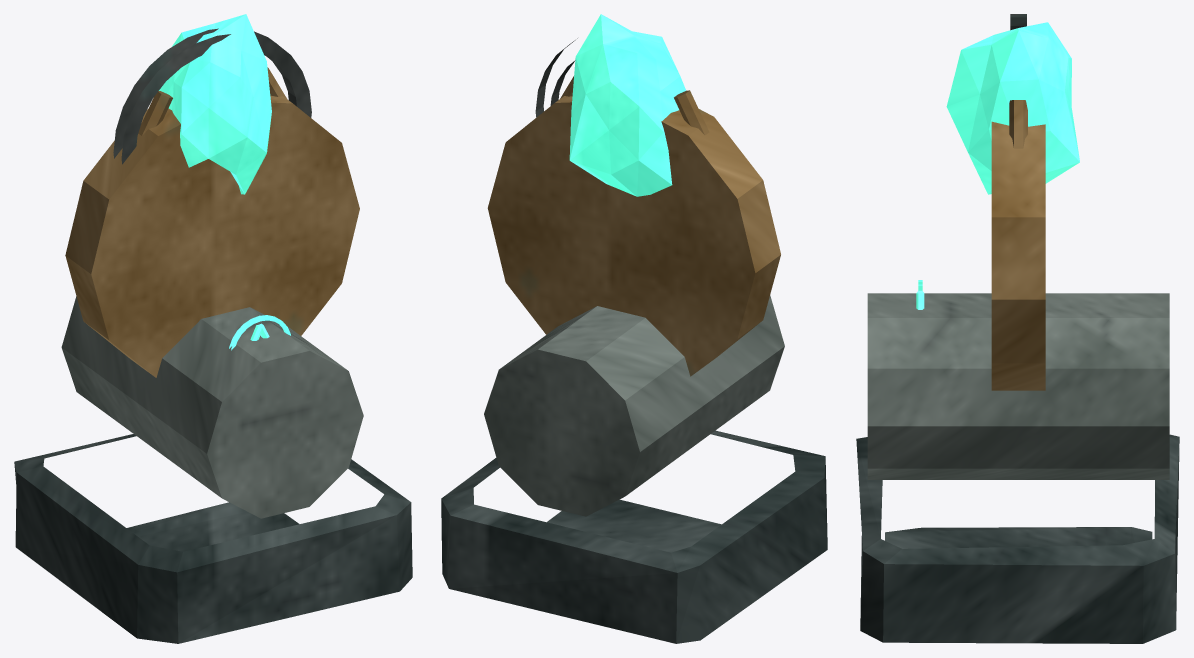
File: 0582_relic_pedestal_07.glb
3 renders of one model, left to right at view 1: azimuth 30°, elevation 25°; view 2: azimuth 150°, elevation 25°; view 3: azimuth 270°, elevation 25°, orthographic. The views are drawn at different scales.
Parts seen in each view (by area): view 1: brass, stone_dark, stone, glow, iron; view 2: brass, stone_dark, stone, glow, iron; view 3: stone, stone_dark, brass, glow.
Part boxes in pixels (box(x1,y1,x2,y2)): brass: box(65, 67, 359, 377); stone_dark: box(14, 434, 412, 643); stone: box(61, 296, 363, 518); glow: box(159, 14, 290, 350); iron: box(113, 28, 311, 164); brass: box(487, 76, 780, 376); stone_dark: box(441, 430, 827, 643); stone: box(484, 295, 784, 516); glow: box(569, 14, 685, 196); iron: box(535, 38, 577, 117); stone: box(867, 293, 1169, 479); stone_dark: box(856, 434, 1179, 643); brass: box(991, 100, 1045, 390); glow: box(916, 22, 1079, 309).
Size of the model in its own units: 0.9629 by 1.87 by 0.9633.
Materials: 5 (5 with a texture image).
